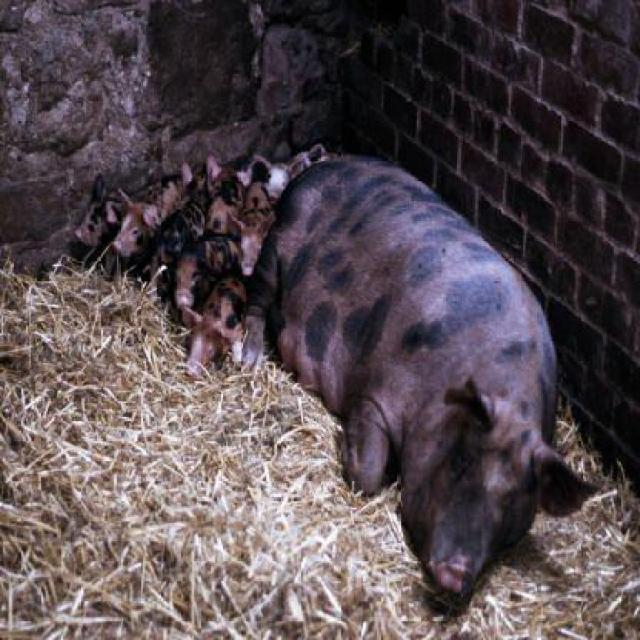Boar: (72, 142, 605, 603)
